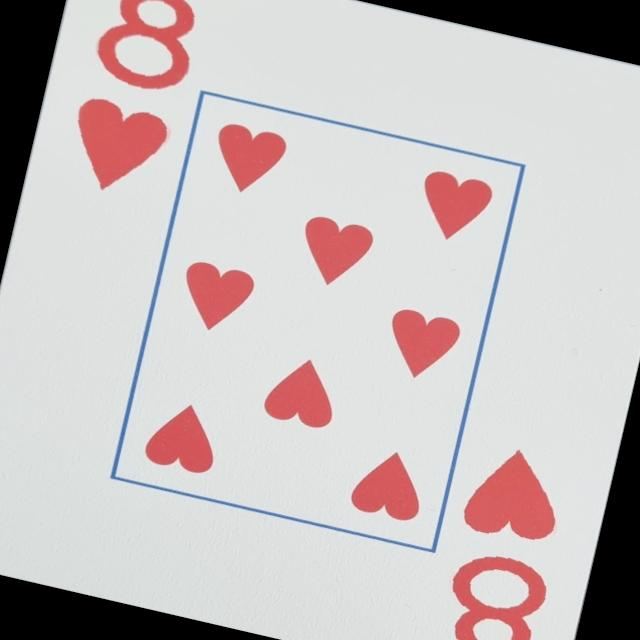8h: (420, 432, 583, 640), (55, 0, 210, 211)
